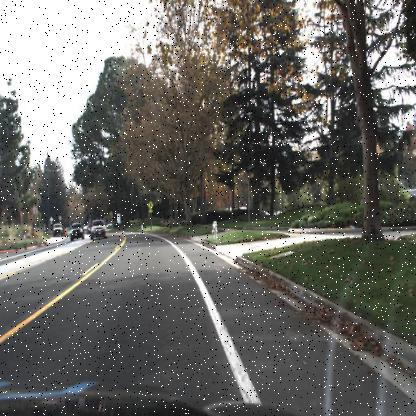car: (68, 221, 86, 242), (90, 219, 108, 238), (52, 223, 63, 238)
